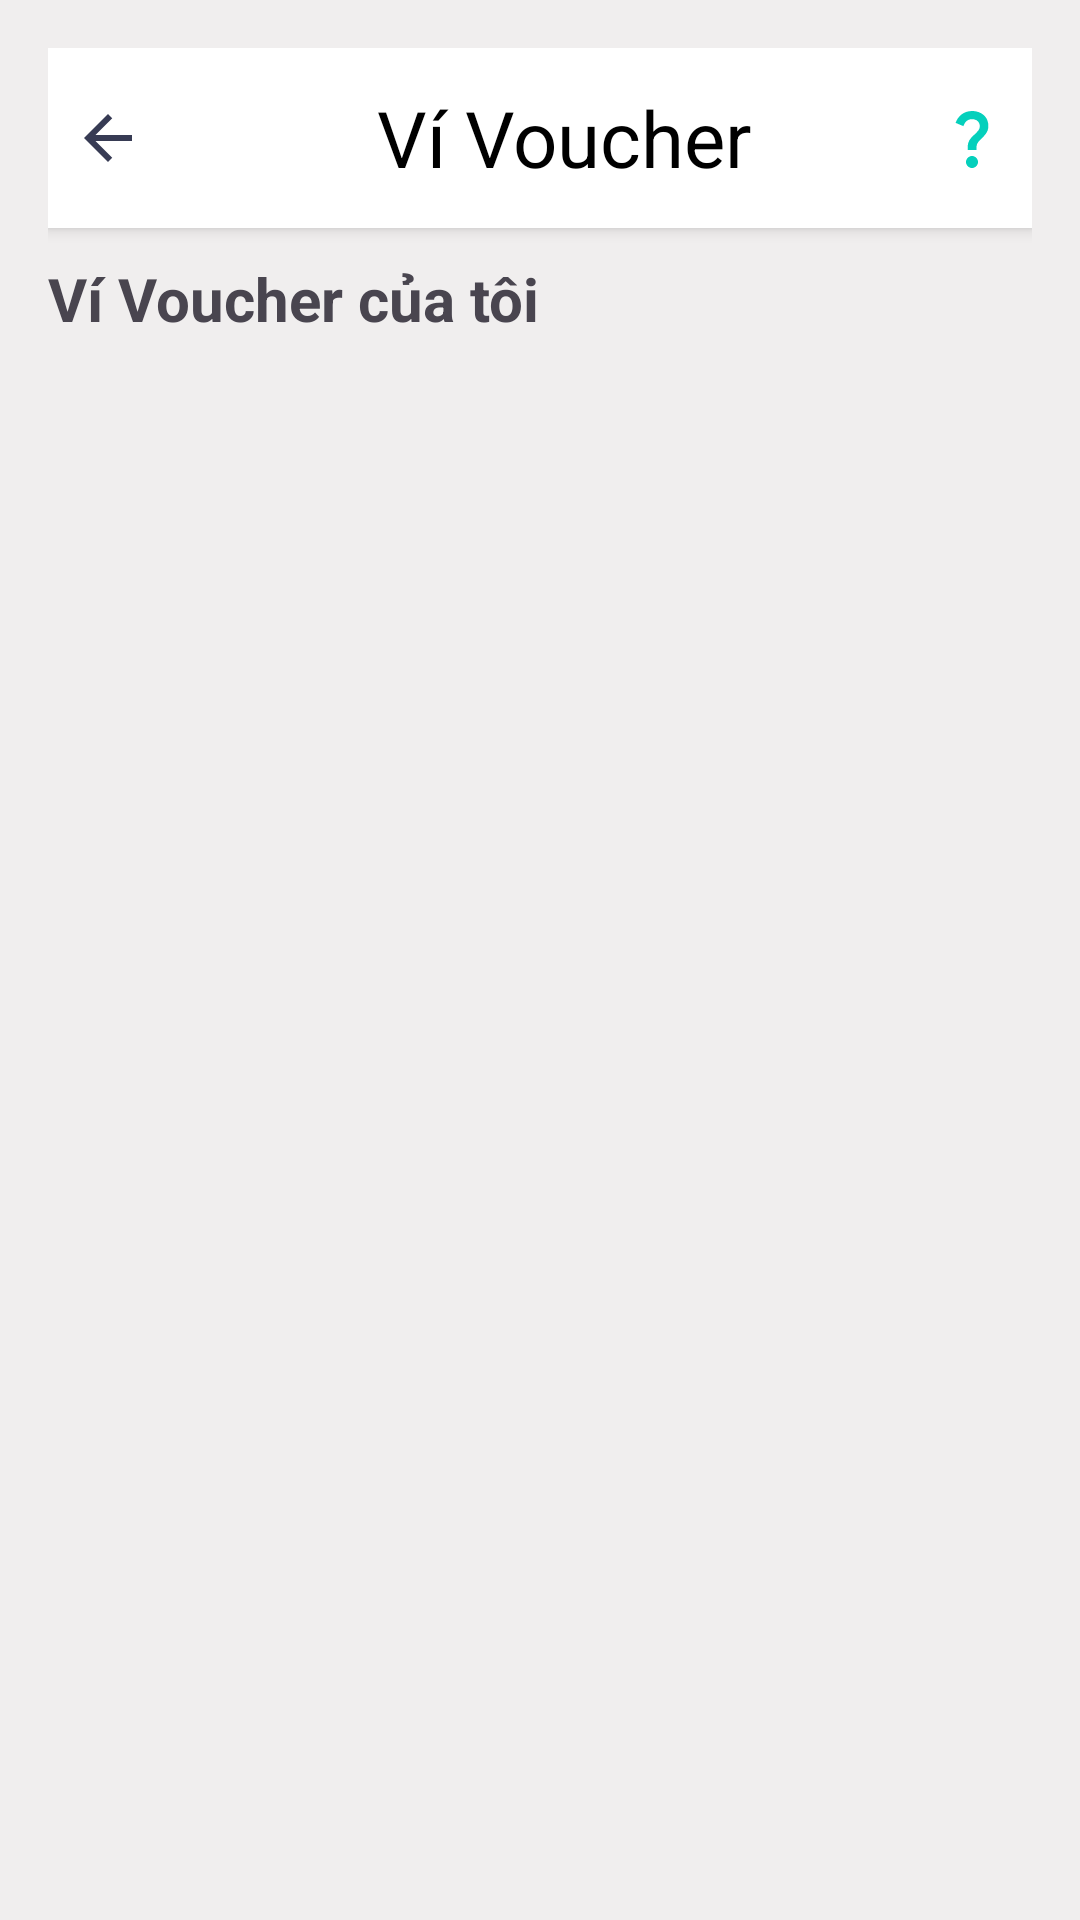

Point at icon controls on the screen. Image size 1080 × 1920, points as (x,y).
arrow back: (108,138)
question mark: (972,139)
